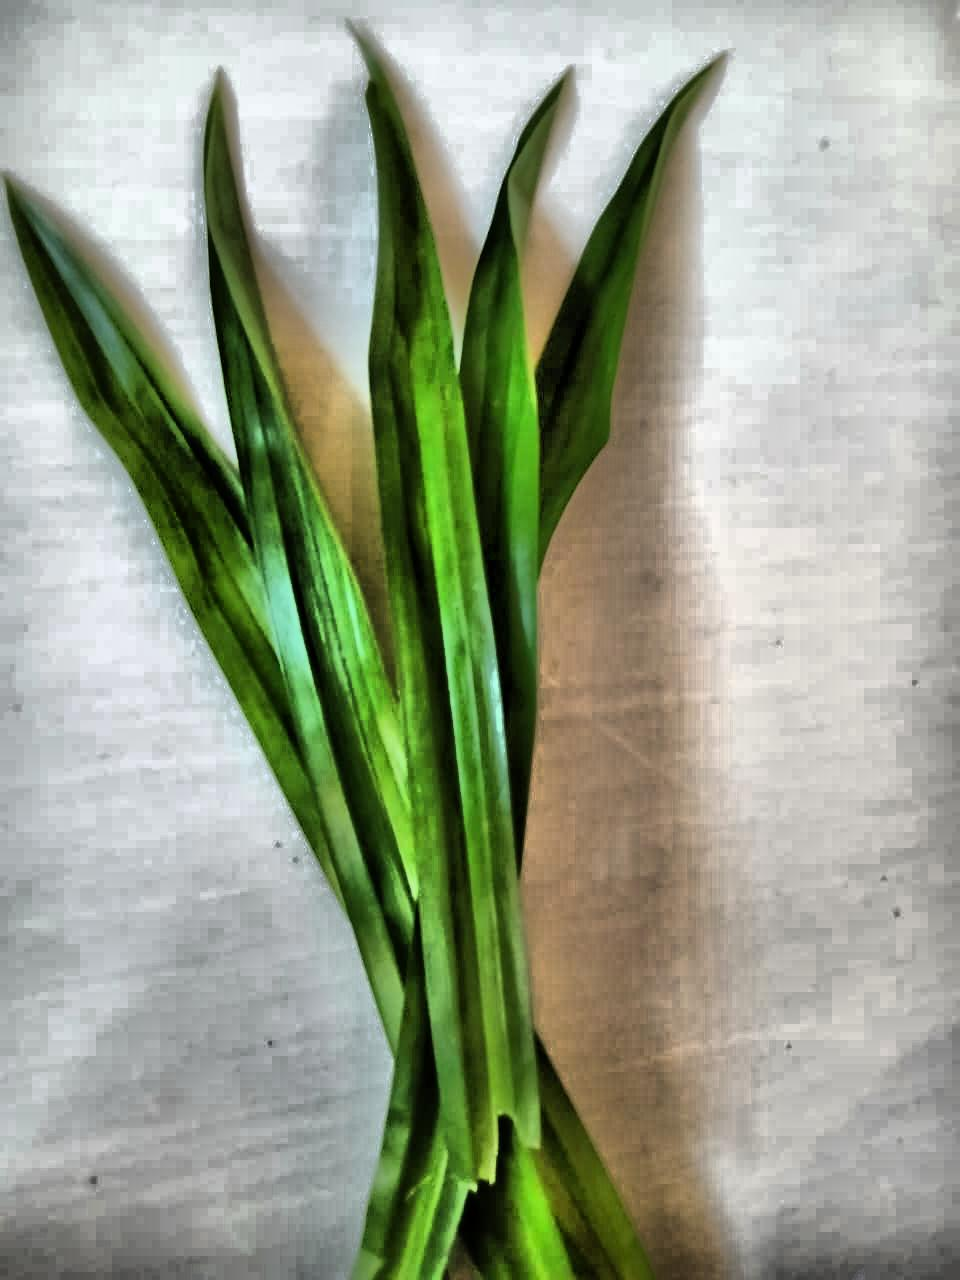daun pandan: (8, 36, 717, 1279)
